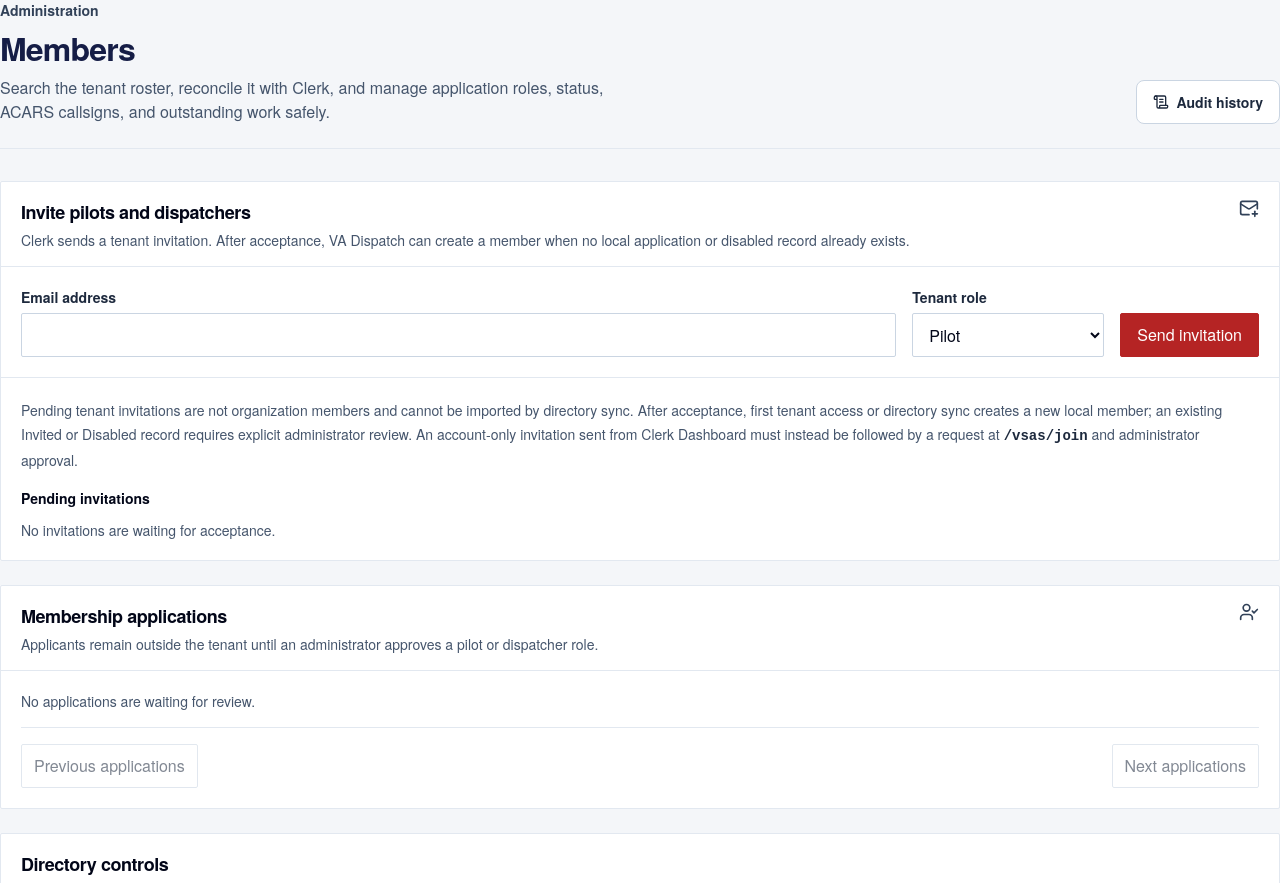
it: admin member console › sends a tenant-role invitation without exposing Clerk administration
Type "new@example.test" into the field labelled "Email address" at (459, 335), box [21,313,896,357]
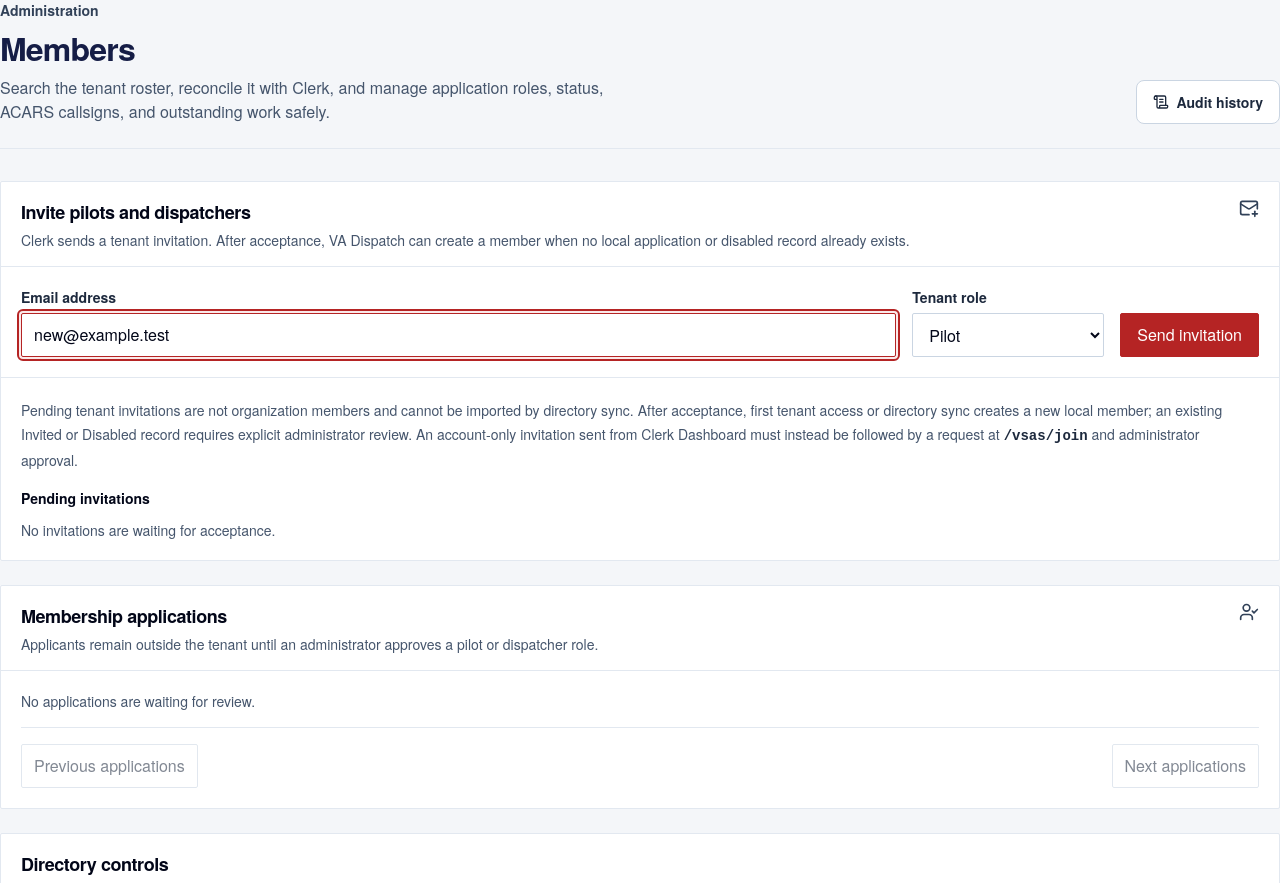
Select "Dispatcher" in the dropdown labelled "Tenant role" at (1008, 335), box [912,313,1104,357]
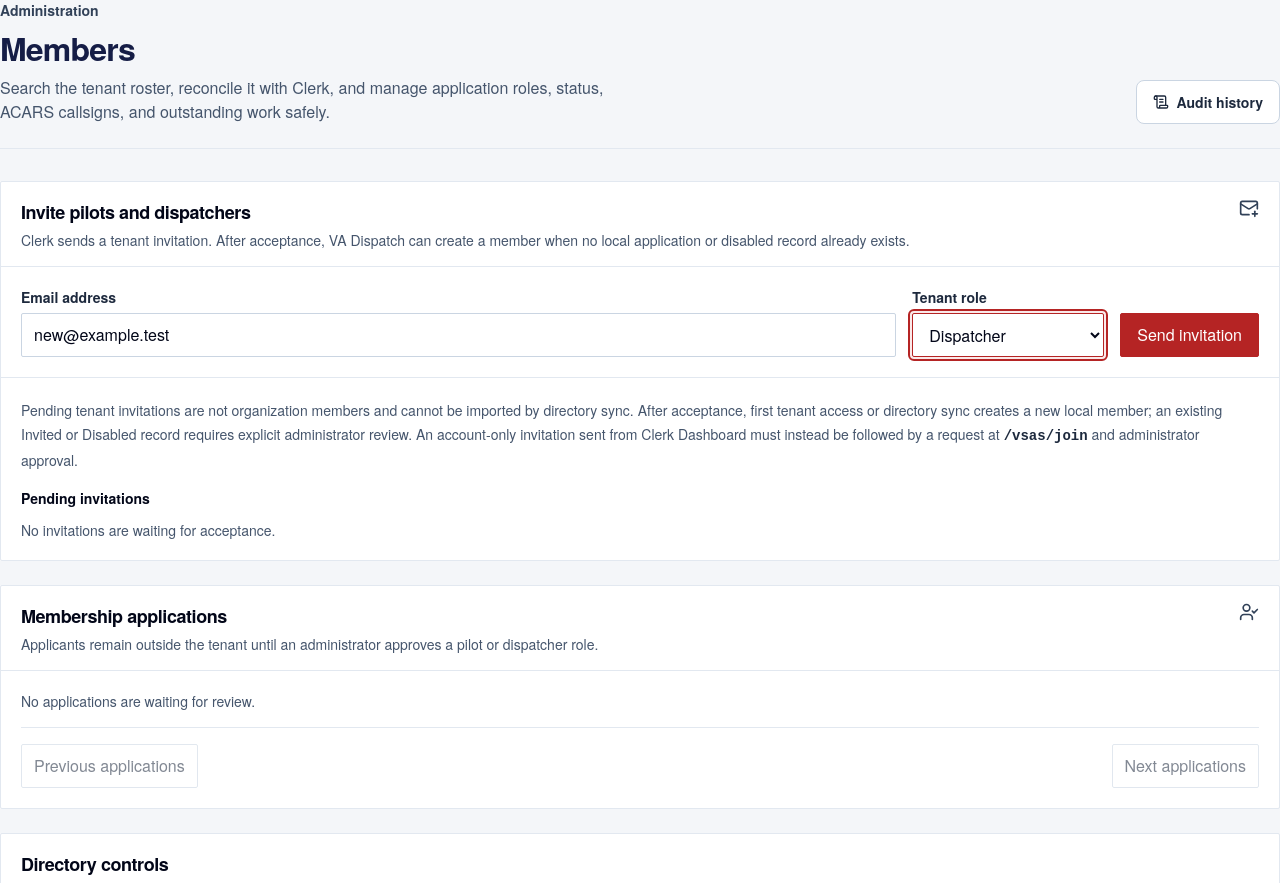
Click the button "Send invitation" at (1190, 335), box [1120,313,1259,357]
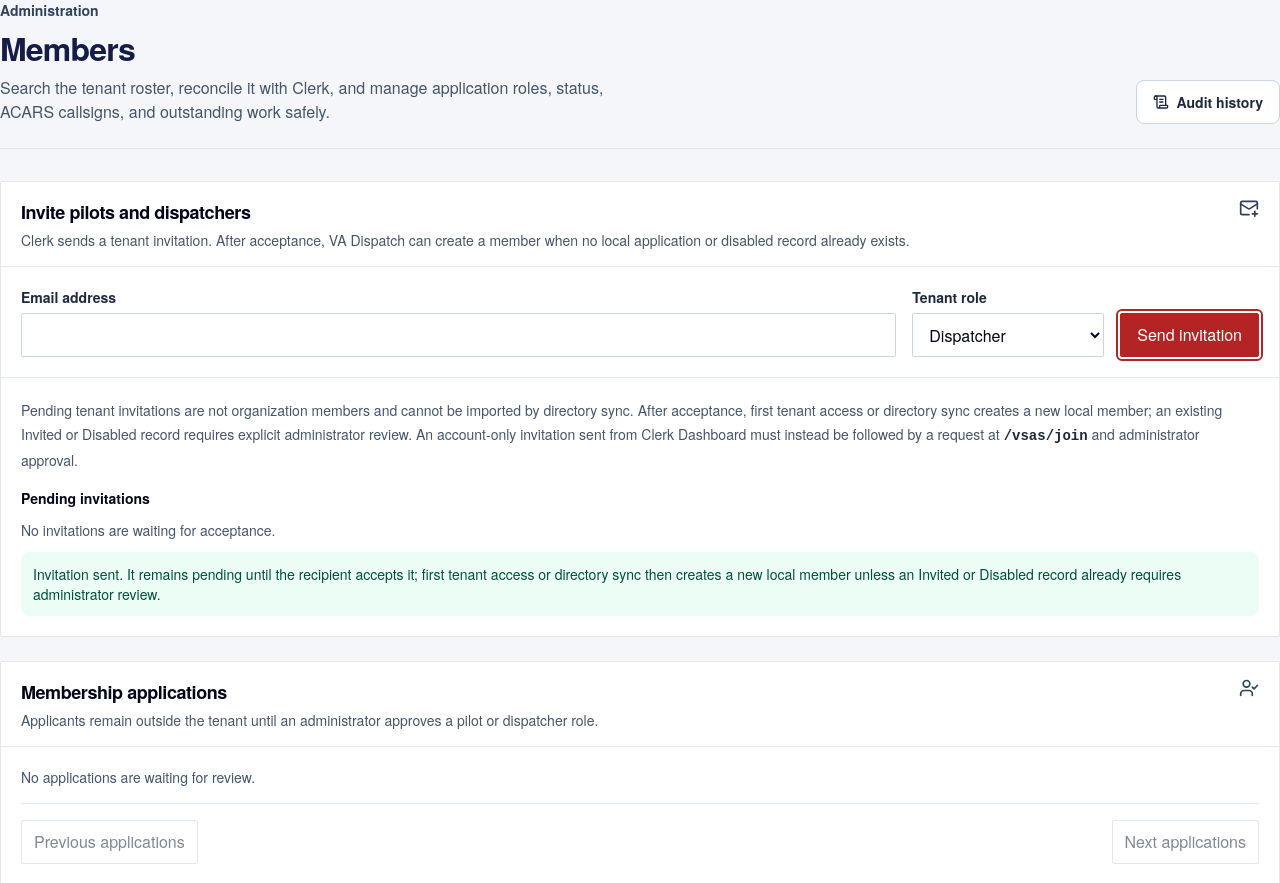
Expected: the text "Pending tenant invitations are not organization members" is shown, [21,400,1222,444]
Now the text "unless an Invited or Disabled record" is shown, box [33,564,1181,604]
